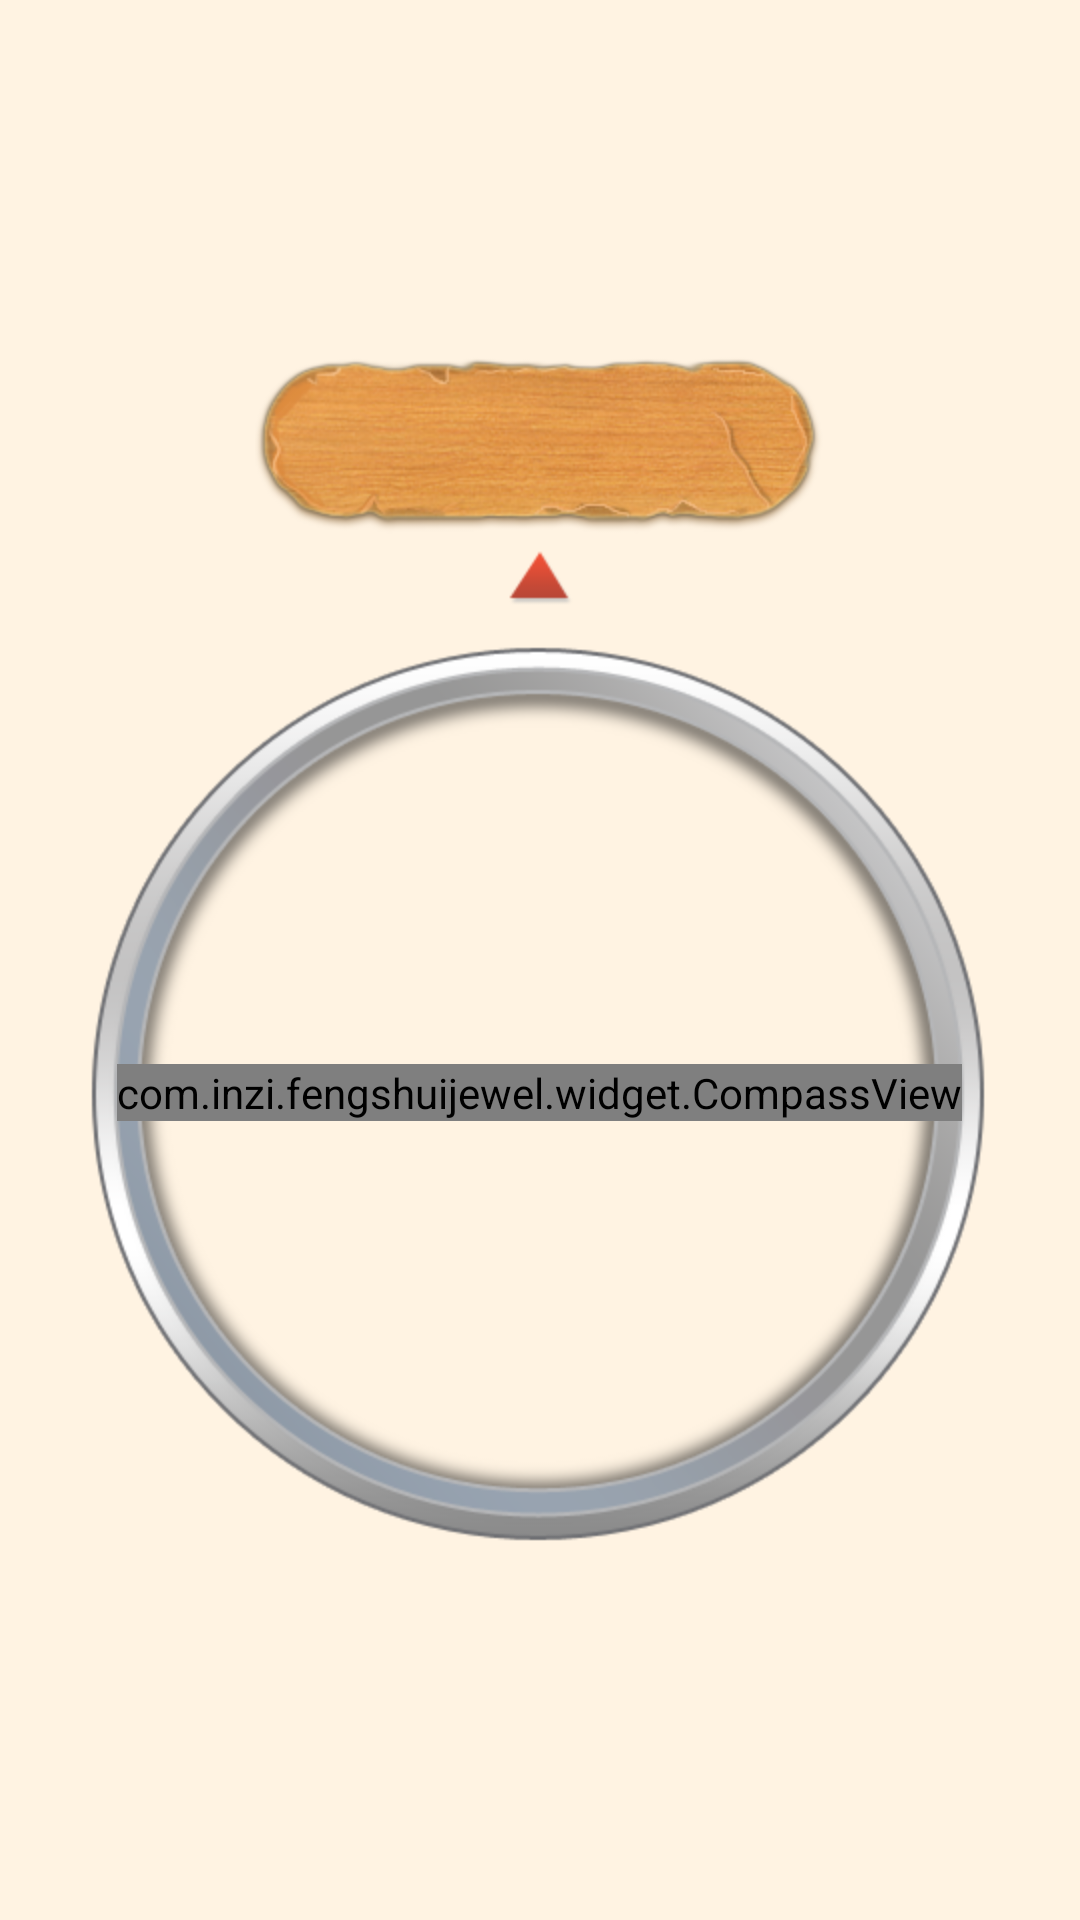

Screen size 1080×1920. Icon name, then its box in pixels as [x1, y1, x2, y2]:
jiantou: [510, 552, 569, 602]
